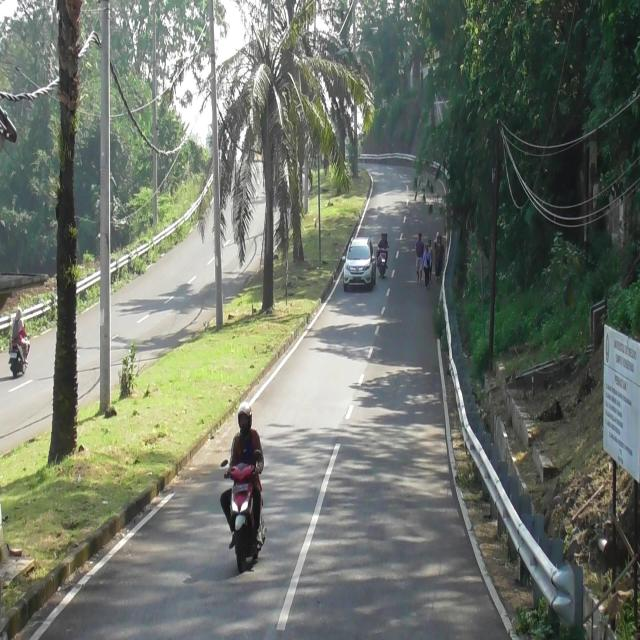motorcycle: (221, 454, 267, 571), (8, 340, 26, 379), (378, 248, 388, 278)
person: (220, 405, 263, 546), (13, 306, 27, 350), (376, 233, 388, 269), (384, 232, 388, 246)
rider_region: (218, 406, 268, 570), (8, 304, 29, 381), (377, 231, 390, 279)
